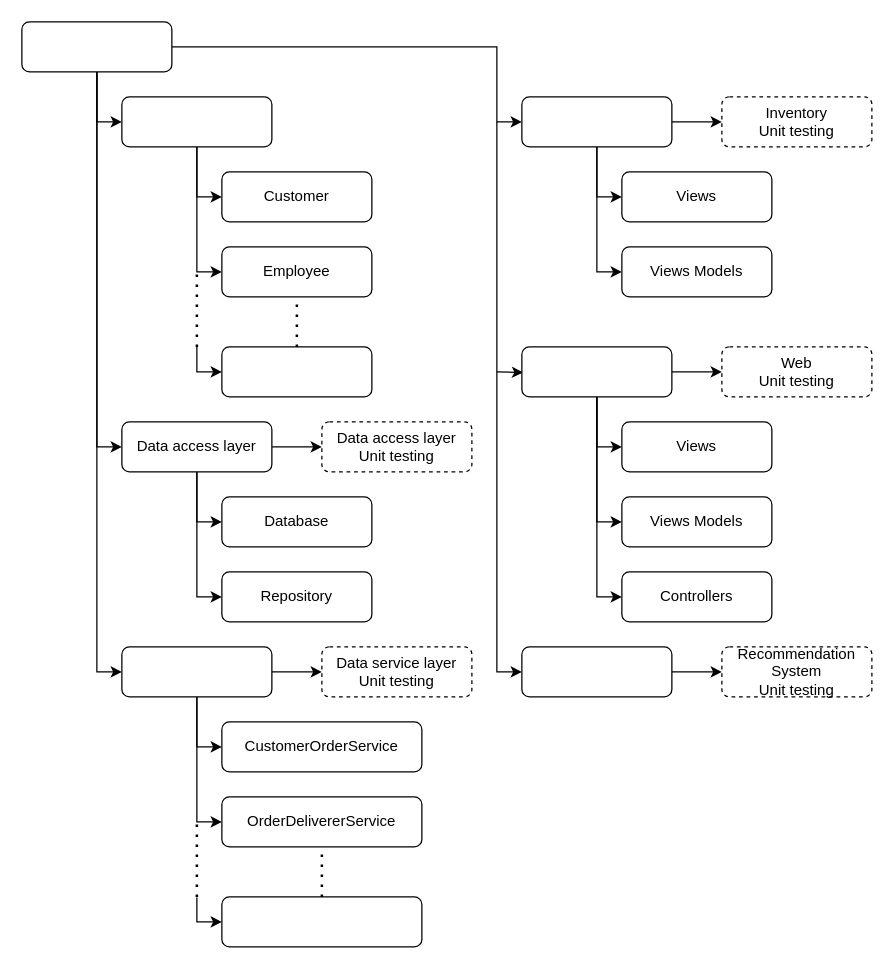
This 894x969 diagram has some shape labels left out. Each missing label, with the box of its shape:
Data service layer: (121, 646, 272, 697)
EmployeePaymentService: (221, 896, 422, 947)
Food desire: (21, 21, 172, 72)
Inventory: (521, 96, 672, 147)
Models: (121, 96, 272, 147)
Recipe: (221, 346, 372, 397)
Recommendation System: (521, 646, 672, 697)
Web: (521, 346, 672, 397)
